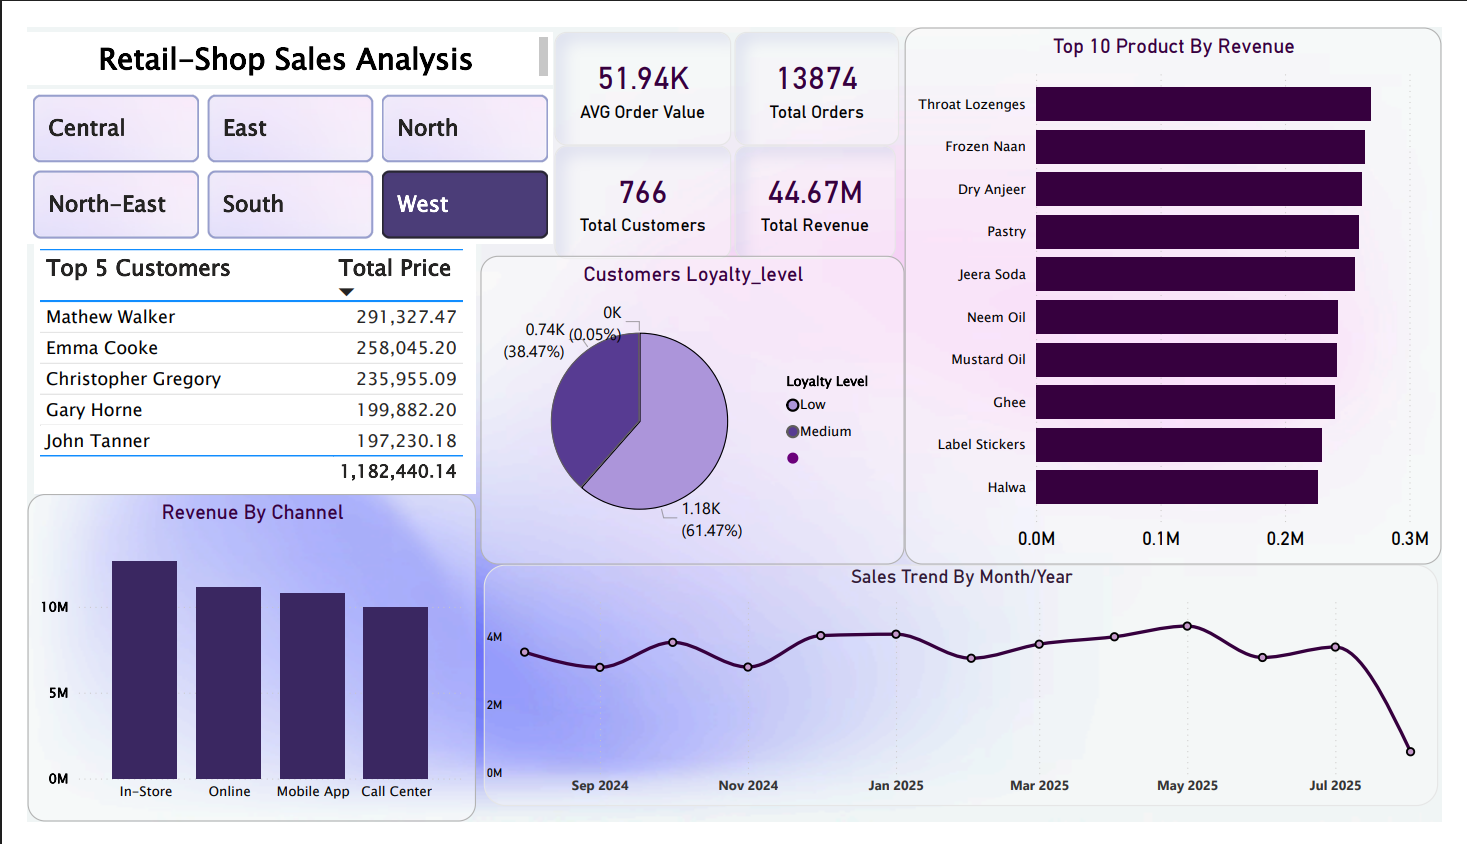

Layout of this report page (visuals, bound fields, positions):
{"tool":"powerbi","page":{"name":"Sales & Customer Overview","canvas":[1280,720],"ordinal":0},"visuals":[{"type":"card","fields":{"Values":["P-sales_data.total_price"]},"box":[640,107.1,145.7,102.9],"z":0},{"type":"card","fields":{"Values":["P-sales_data.order_id"]},"box":[640,4.3,148.6,102.9],"z":1000},{"type":"card","fields":{"Values":["P-sales_data.AVG Order Value"]},"box":[477.1,4.3,160,102.9],"z":2000},{"type":"card","fields":{"Values":["P-sales_data.customer_id"]},"box":[477.1,107.1,160,102.9],"z":3000},{"type":"lineChart","title":"Sales Trend By Month/Year","fields":{"Y":["P-sales_data.total_price"],"Category":["P-sales_data.order_date.Variation.Date Hierarchy.Year","P-sales_data.order_date.Variation.Date Hierarchy.Month"]},"box":[412.9,487.1,864.3,218.6],"z":4000},{"type":"barChart","title":"Top 10 Product By Revenue","fields":{"Category":["P-sales_data.product_name"],"Y":["P-sales_data.total_price"]},"box":[794.3,0,485.7,487.1],"z":5000},{"type":"lineStackedColumnComboChart","title":"Revenue By Channel","fields":{"Category":["P-channels.channel_name"],"Y":["P-sales_data.total_price"]},"box":[0,422.9,405.7,297.1],"z":6000},{"type":"tableEx","fields":{"Values":["P-customer_profile.customer_name","P-sales_data.total_price"]},"box":[5.8,196.4,400,226.7],"z":7000},{"type":"pieChart","title":"Customers Loyalty_level","fields":{"Category":["P-customer_profile.loyalty_level"],"Y":["P-customer_profile.customer_id"]},"box":[410,207.1,384.3,280],"z":8000},{"type":"advancedSlicerVisual","fields":{"Values":["P-regions.region_name"]},"box":[0,56.3,476.5,140.1],"z":9000},{"type":"textbox","box":[0,4.3,476.5,47.6],"z":10000}]}

Visuals, with their boxes in screenshot pixels (x1, y1, x2, y2), scaled from the page's 1280x720 canvas onto the 1467x844 screenshot:
card - P-sales_data.total_price: bbox(734, 126, 900, 246)
card - P-sales_data.order_id: bbox(734, 5, 904, 126)
card - P-sales_data.AVG Order Value: bbox(547, 5, 730, 126)
card - P-sales_data.customer_id: bbox(547, 126, 730, 246)
"Sales Trend By Month/Year" lineChart: bbox(473, 571, 1464, 827)
"Top 10 Product By Revenue" barChart: bbox(910, 0, 1466, 571)
"Revenue By Channel" lineStackedColumnComboChart: bbox(0, 496, 465, 843)
tableEx - P-customer_profile.customer_name x P-sales_data.total_price: bbox(7, 230, 465, 496)
"Customers Loyalty_level" pieChart: bbox(470, 243, 910, 571)
advancedSlicerVisual - P-regions.region_name: bbox(0, 66, 546, 230)
textbox: bbox(0, 5, 546, 61)
